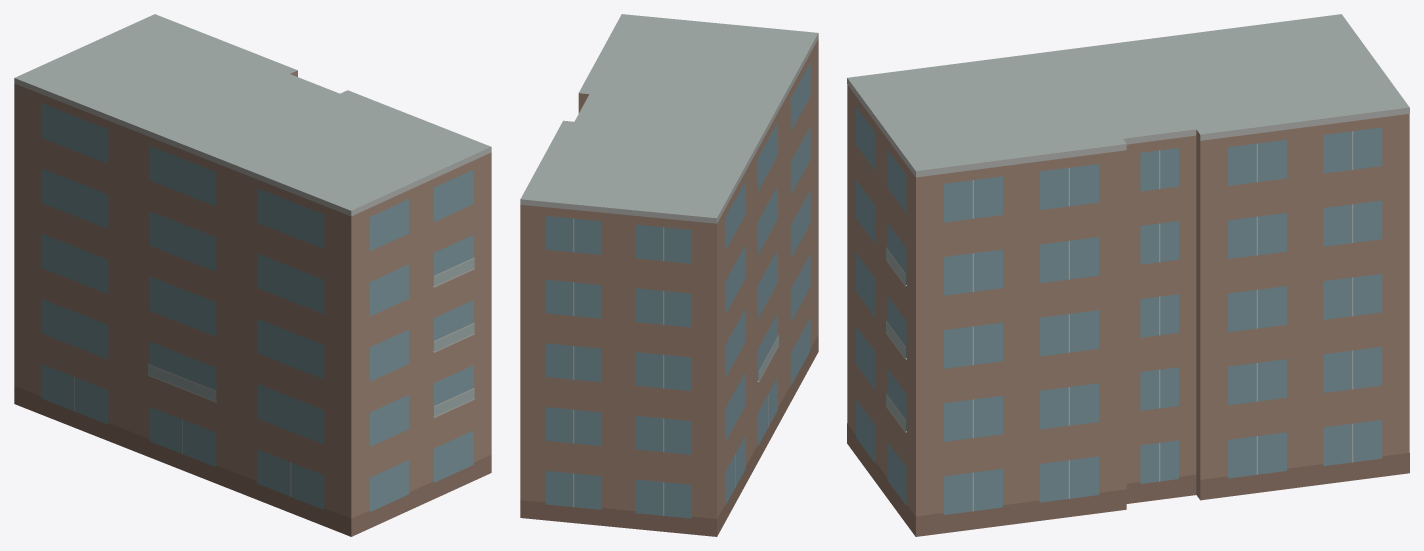
The model's file is survey-upis-32612685.glb.
3 renders of one model, left to right at view 1: azimuth 30°, elevation 25°; view 2: azimuth 150°, elevation 25°; view 3: azimuth 270°, elevation 25°, orthographic. The views are drawn at different scales.
Parts seen in each view (by area): view 1: survey-upis-32612685.tmp; view 2: survey-upis-32612685.tmp; view 3: survey-upis-32612685.tmp.
Part boxes in pixels (<box>): survey-upis-32612685.tmp: <box>14,14,491,536</box>; survey-upis-32612685.tmp: <box>520,14,818,536</box>; survey-upis-32612685.tmp: <box>847,14,1409,536</box>.
Bounding box in the file's own units: 13.25 × 14.35 × 20.03.
